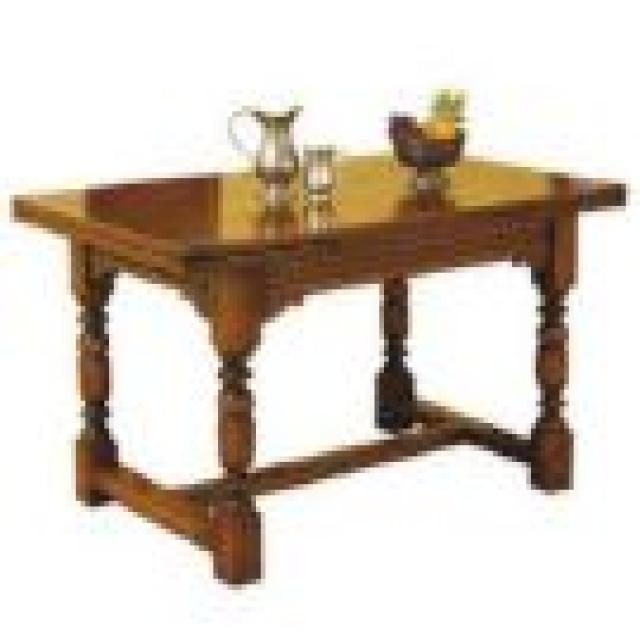table: (29, 131, 630, 591)
